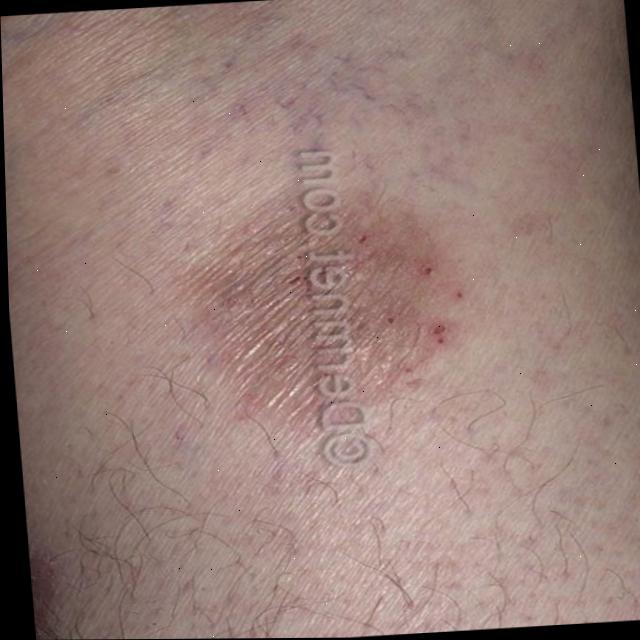Eczema: (179, 166, 460, 465)
